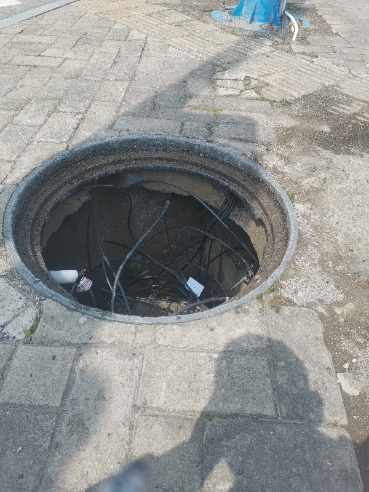lose: (4, 133, 298, 327)
